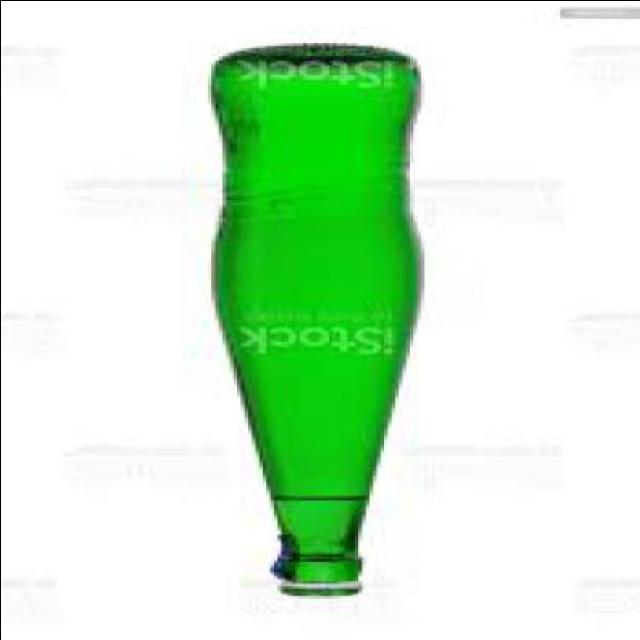kaca: (210, 42, 427, 598)
